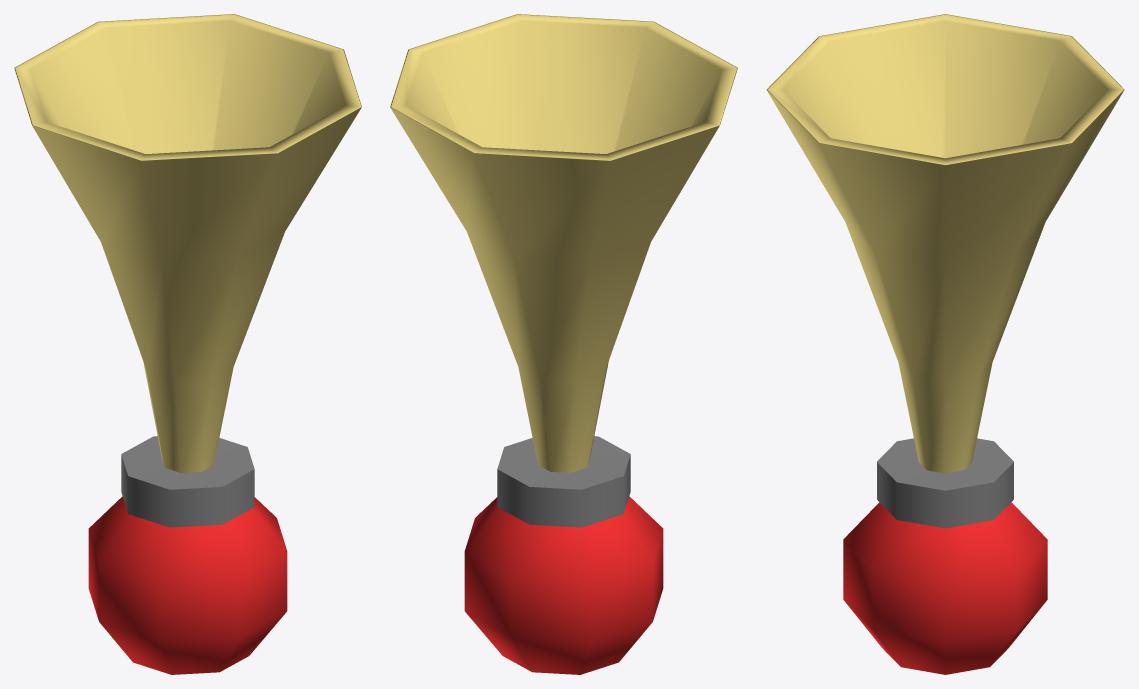
The model's file is bike_horn.fbx.
3 views of the same model, side by side, from view 1: azimuth 30°, elevation 25°; view 2: azimuth 150°, elevation 25°; view 3: azimuth 270°, elevation 25° (orthographic).
Parts seen in each view (by area): view 1: pSphere1; view 2: pSphere1; view 3: pSphere1.
Boxes of the visible parts, x1,y1,x2,y2 form: pSphere1: (14,14,361,674); pSphere1: (390,14,737,674); pSphere1: (766,14,1124,674).
Size of the model in its own units: 3.34 by 5.93 by 3.34.
